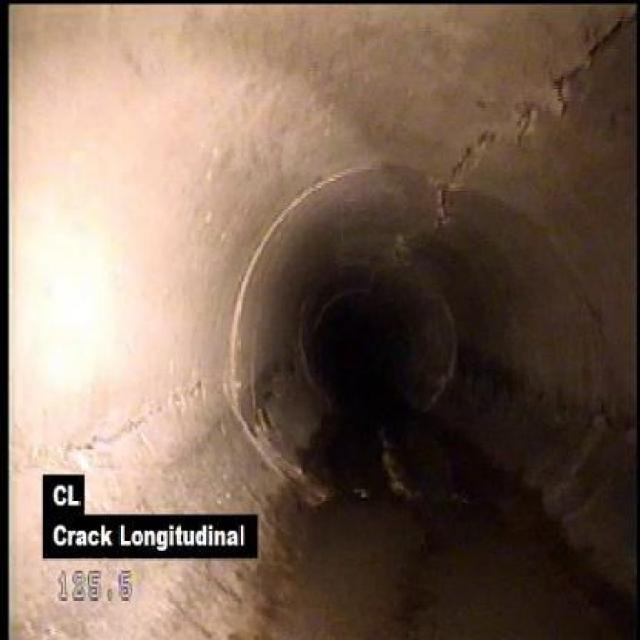Buckling: (524, 14, 634, 126), (434, 112, 524, 228)
Crack: (17, 384, 198, 470)
